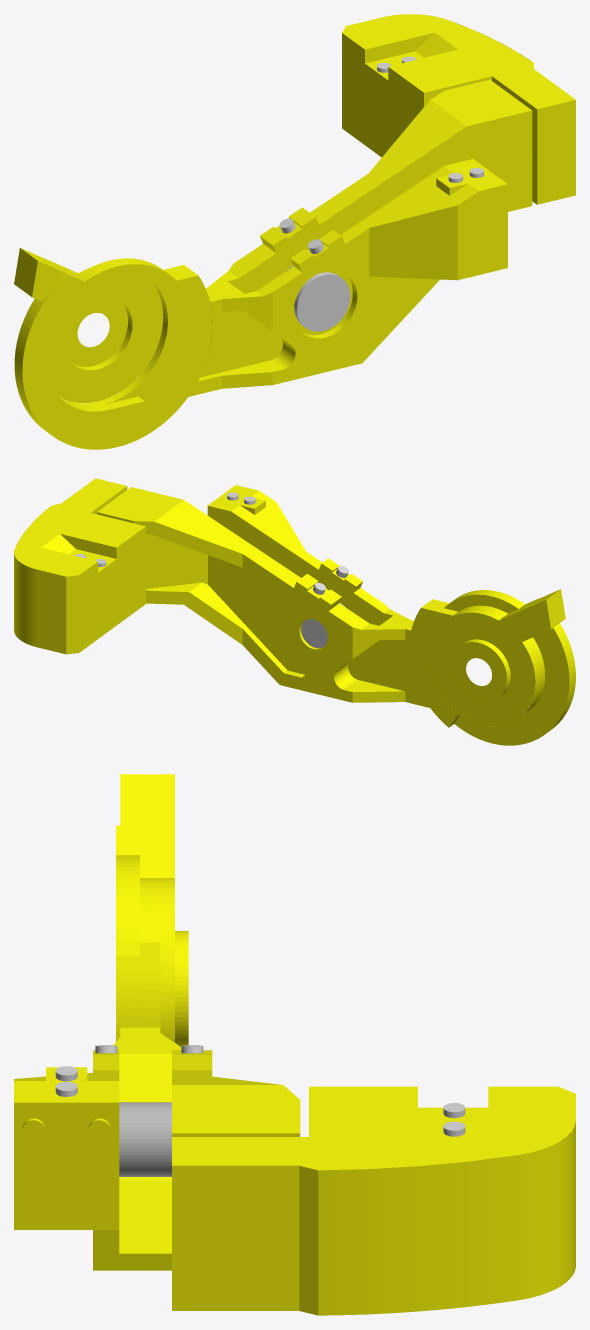
The picture shows the model from 3 angles, top to bottom: view 1: azimuth 30°, elevation 25°; view 2: azimuth 150°, elevation 25°; view 3: azimuth 270°, elevation 25°; orthographic projection. The views are drawn at different scales.
Parts seen in each view (by area): view 1: node; view 2: node; view 3: node.
Boxes of the visible parts, x1,y1,x2,y2 form: node: (14,14,575,449); node: (14,478,575,745); node: (14,774,575,1315).
Size of the model in its own units: 2310 by 830 by 1280.
